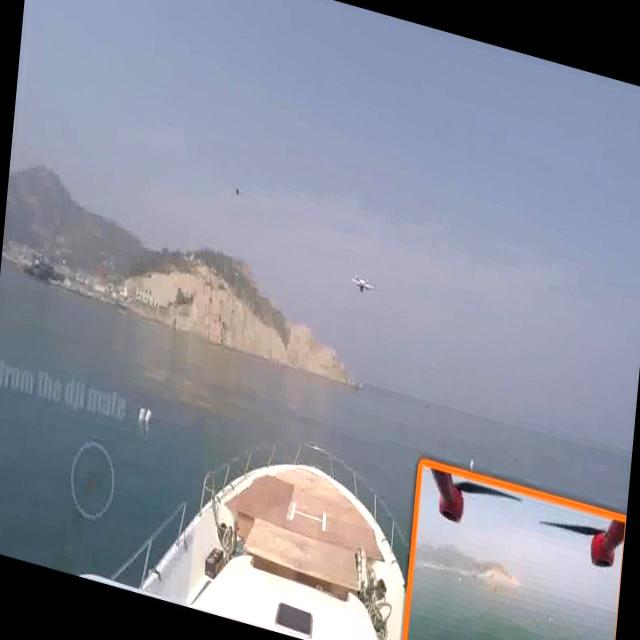drone: (345, 261, 385, 302)
